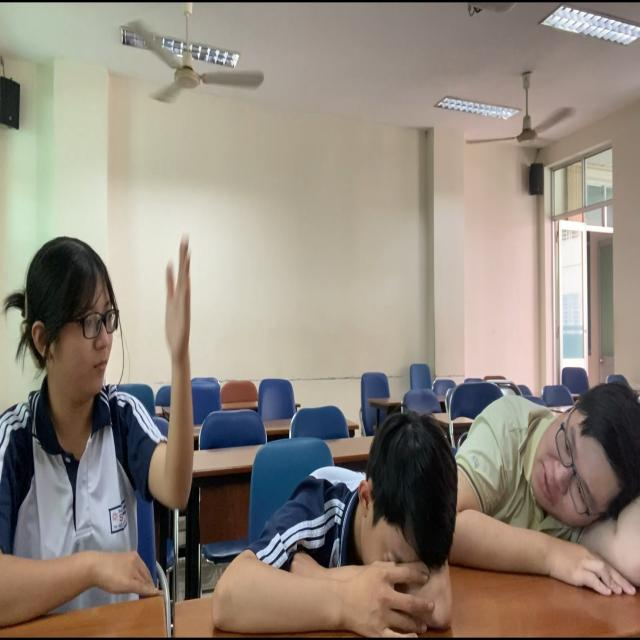raise_hand: (1, 207, 209, 634)
sleep: (215, 402, 474, 640), (460, 379, 640, 635)
